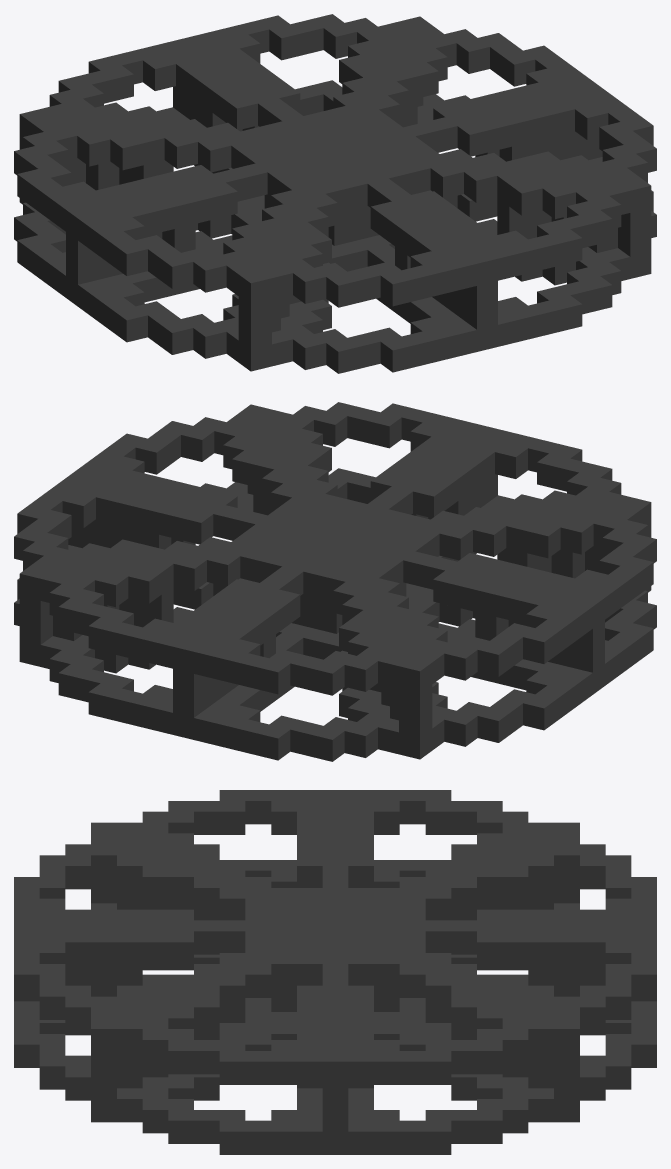
File: lvl1-31.obj
3 renders of one model, top to bottom at view 1: azimuth 30°, elevation 25°; view 2: azimuth 150°, elevation 25°; view 3: azimuth 270°, elevation 25°, orthographic. The views are drawn at different scales.
Size of the model in its own units: 2.5 by 0.4 by 2.5.
Materials: 1 (1 with a texture image).
